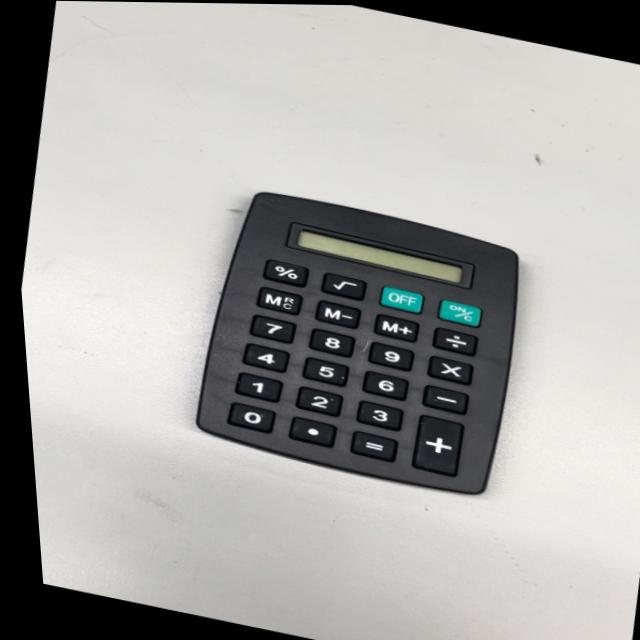calculator: (166, 179, 551, 507)
